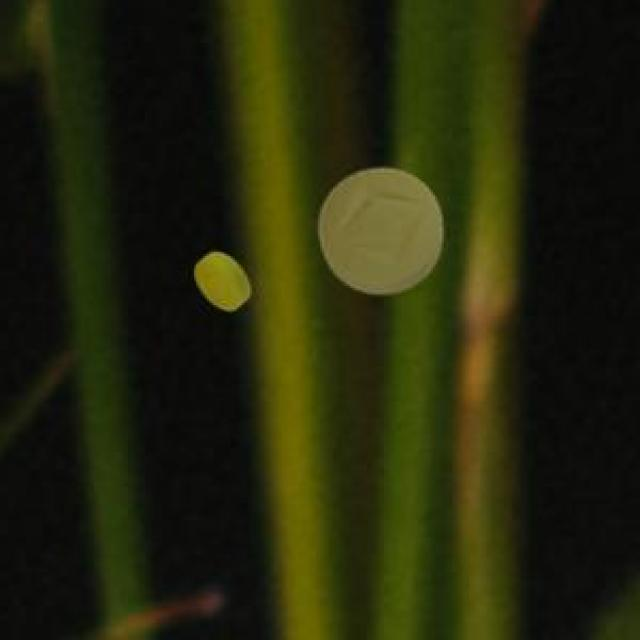Decolgen: (303, 147, 459, 315), (185, 241, 267, 331)
